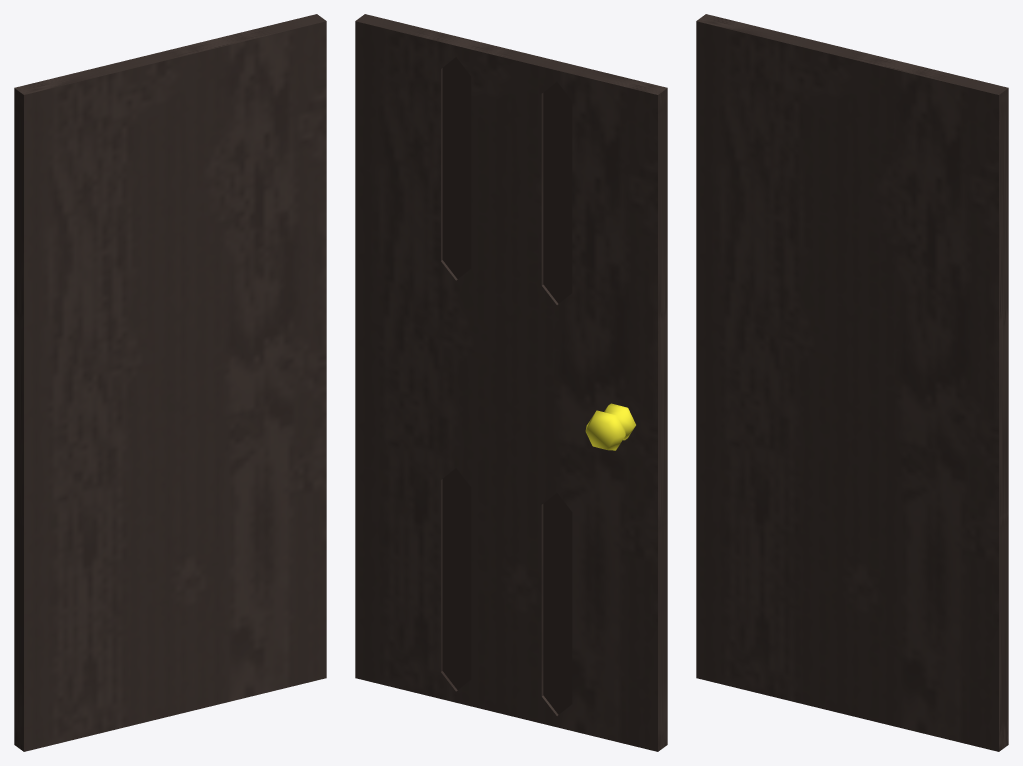
Rendered from door.fbx.
3 views of the same model, side by side, from view 1: azimuth 30°, elevation 25°; view 2: azimuth 150°, elevation 25°; view 3: azimuth 330°, elevation 25° (orthographic).
Parts seen in each view (by area): view 1: Cube.007; view 2: Cube.007; view 3: Cube.007.
Boxes of the visible parts, x1,y1,x2,y2 form: Cube.007: [14, 14, 326, 751]; Cube.007: [355, 14, 667, 751]; Cube.007: [696, 14, 1008, 751].
Bounding box in the file's own units: 270 × 561 × 45.3.
Materials: 2 (2 with a texture image).
